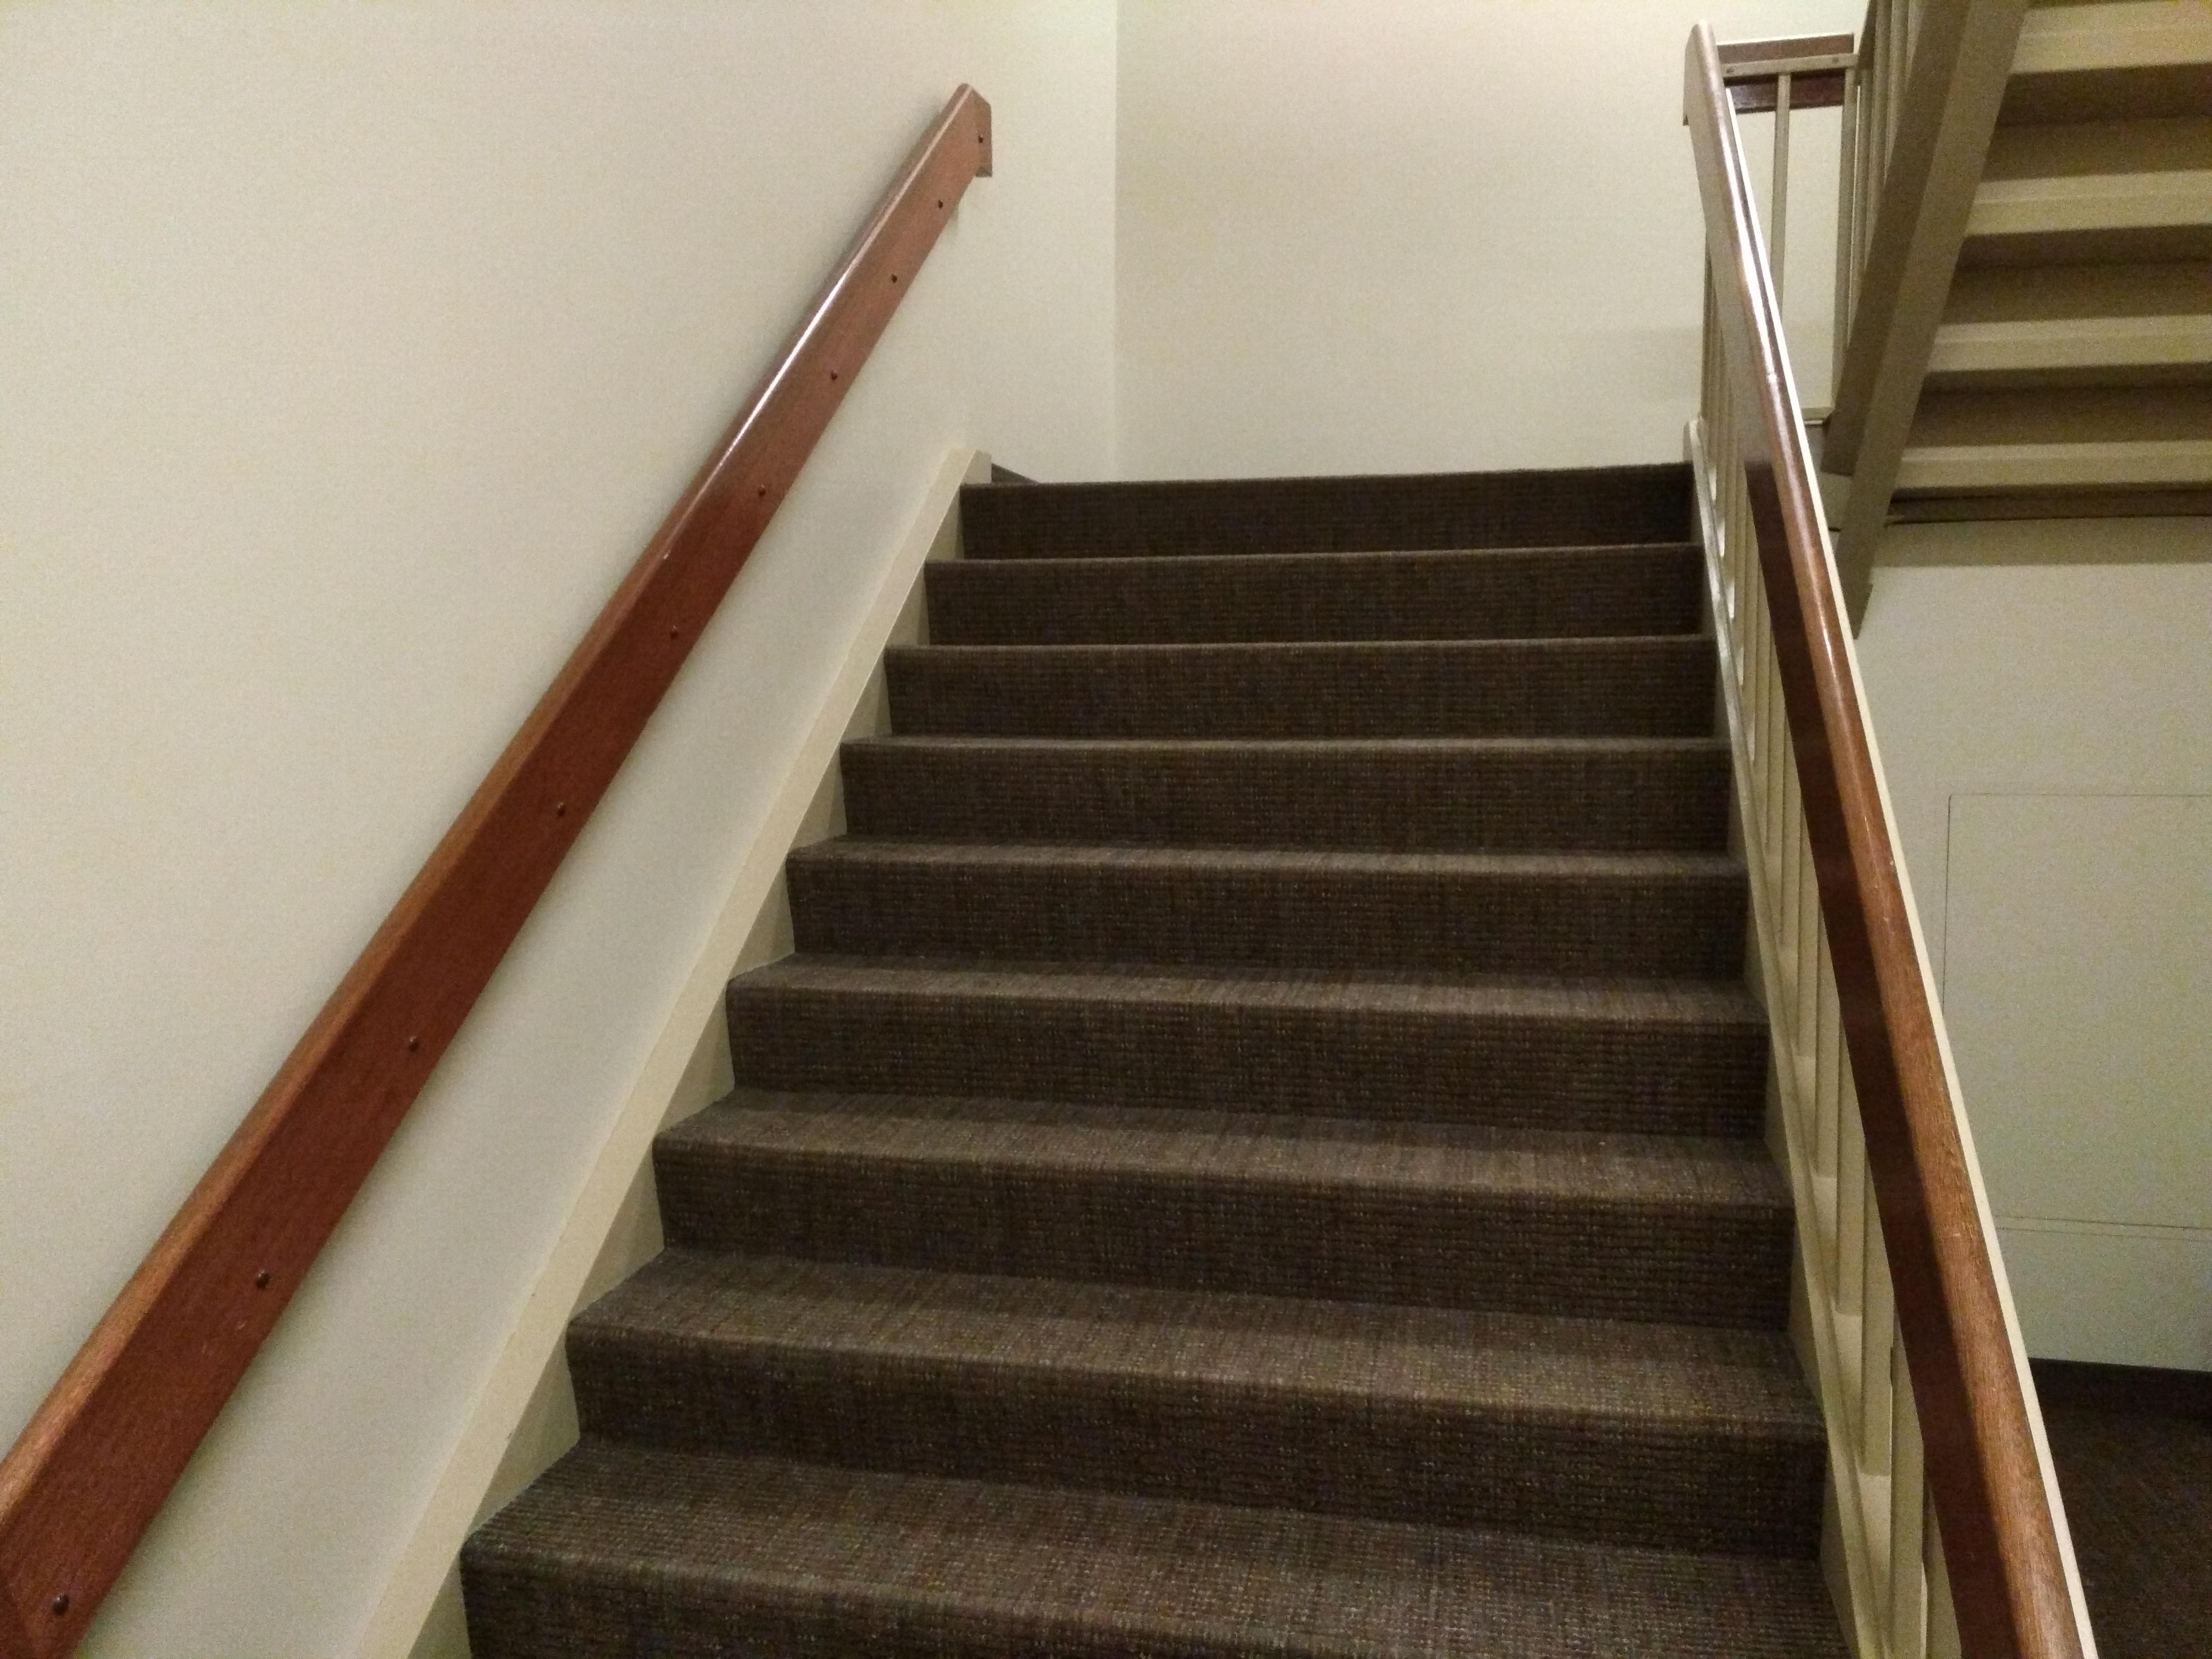stairs_up: (451, 450, 1872, 1659)
